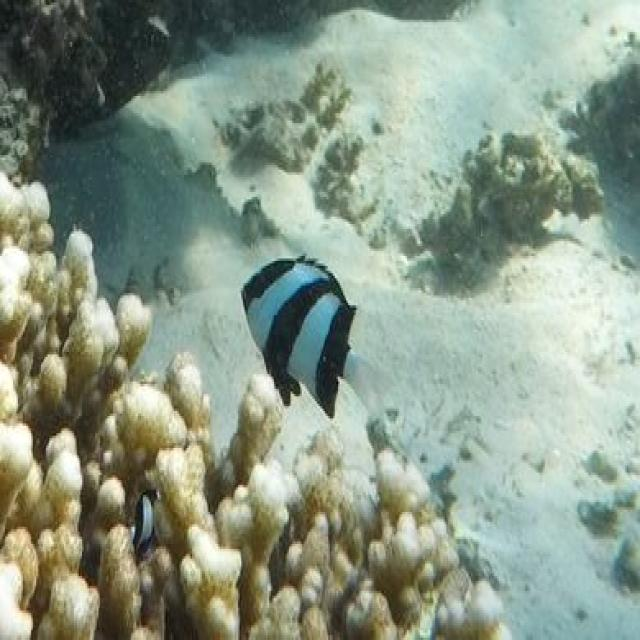ThreeStripedDamselfish: (241, 258, 386, 421)
